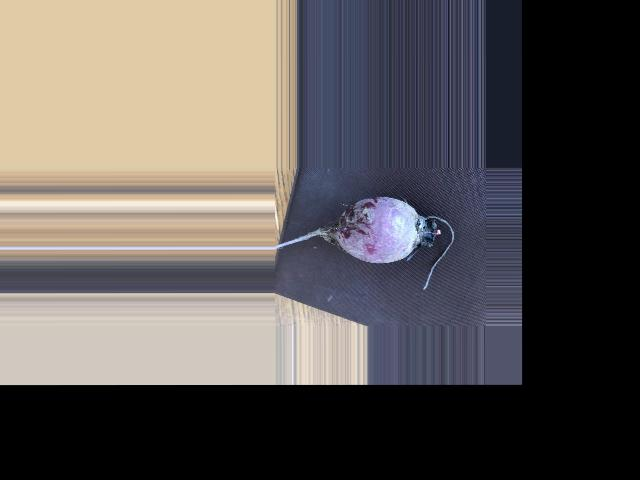beet: (273, 195, 453, 289)
